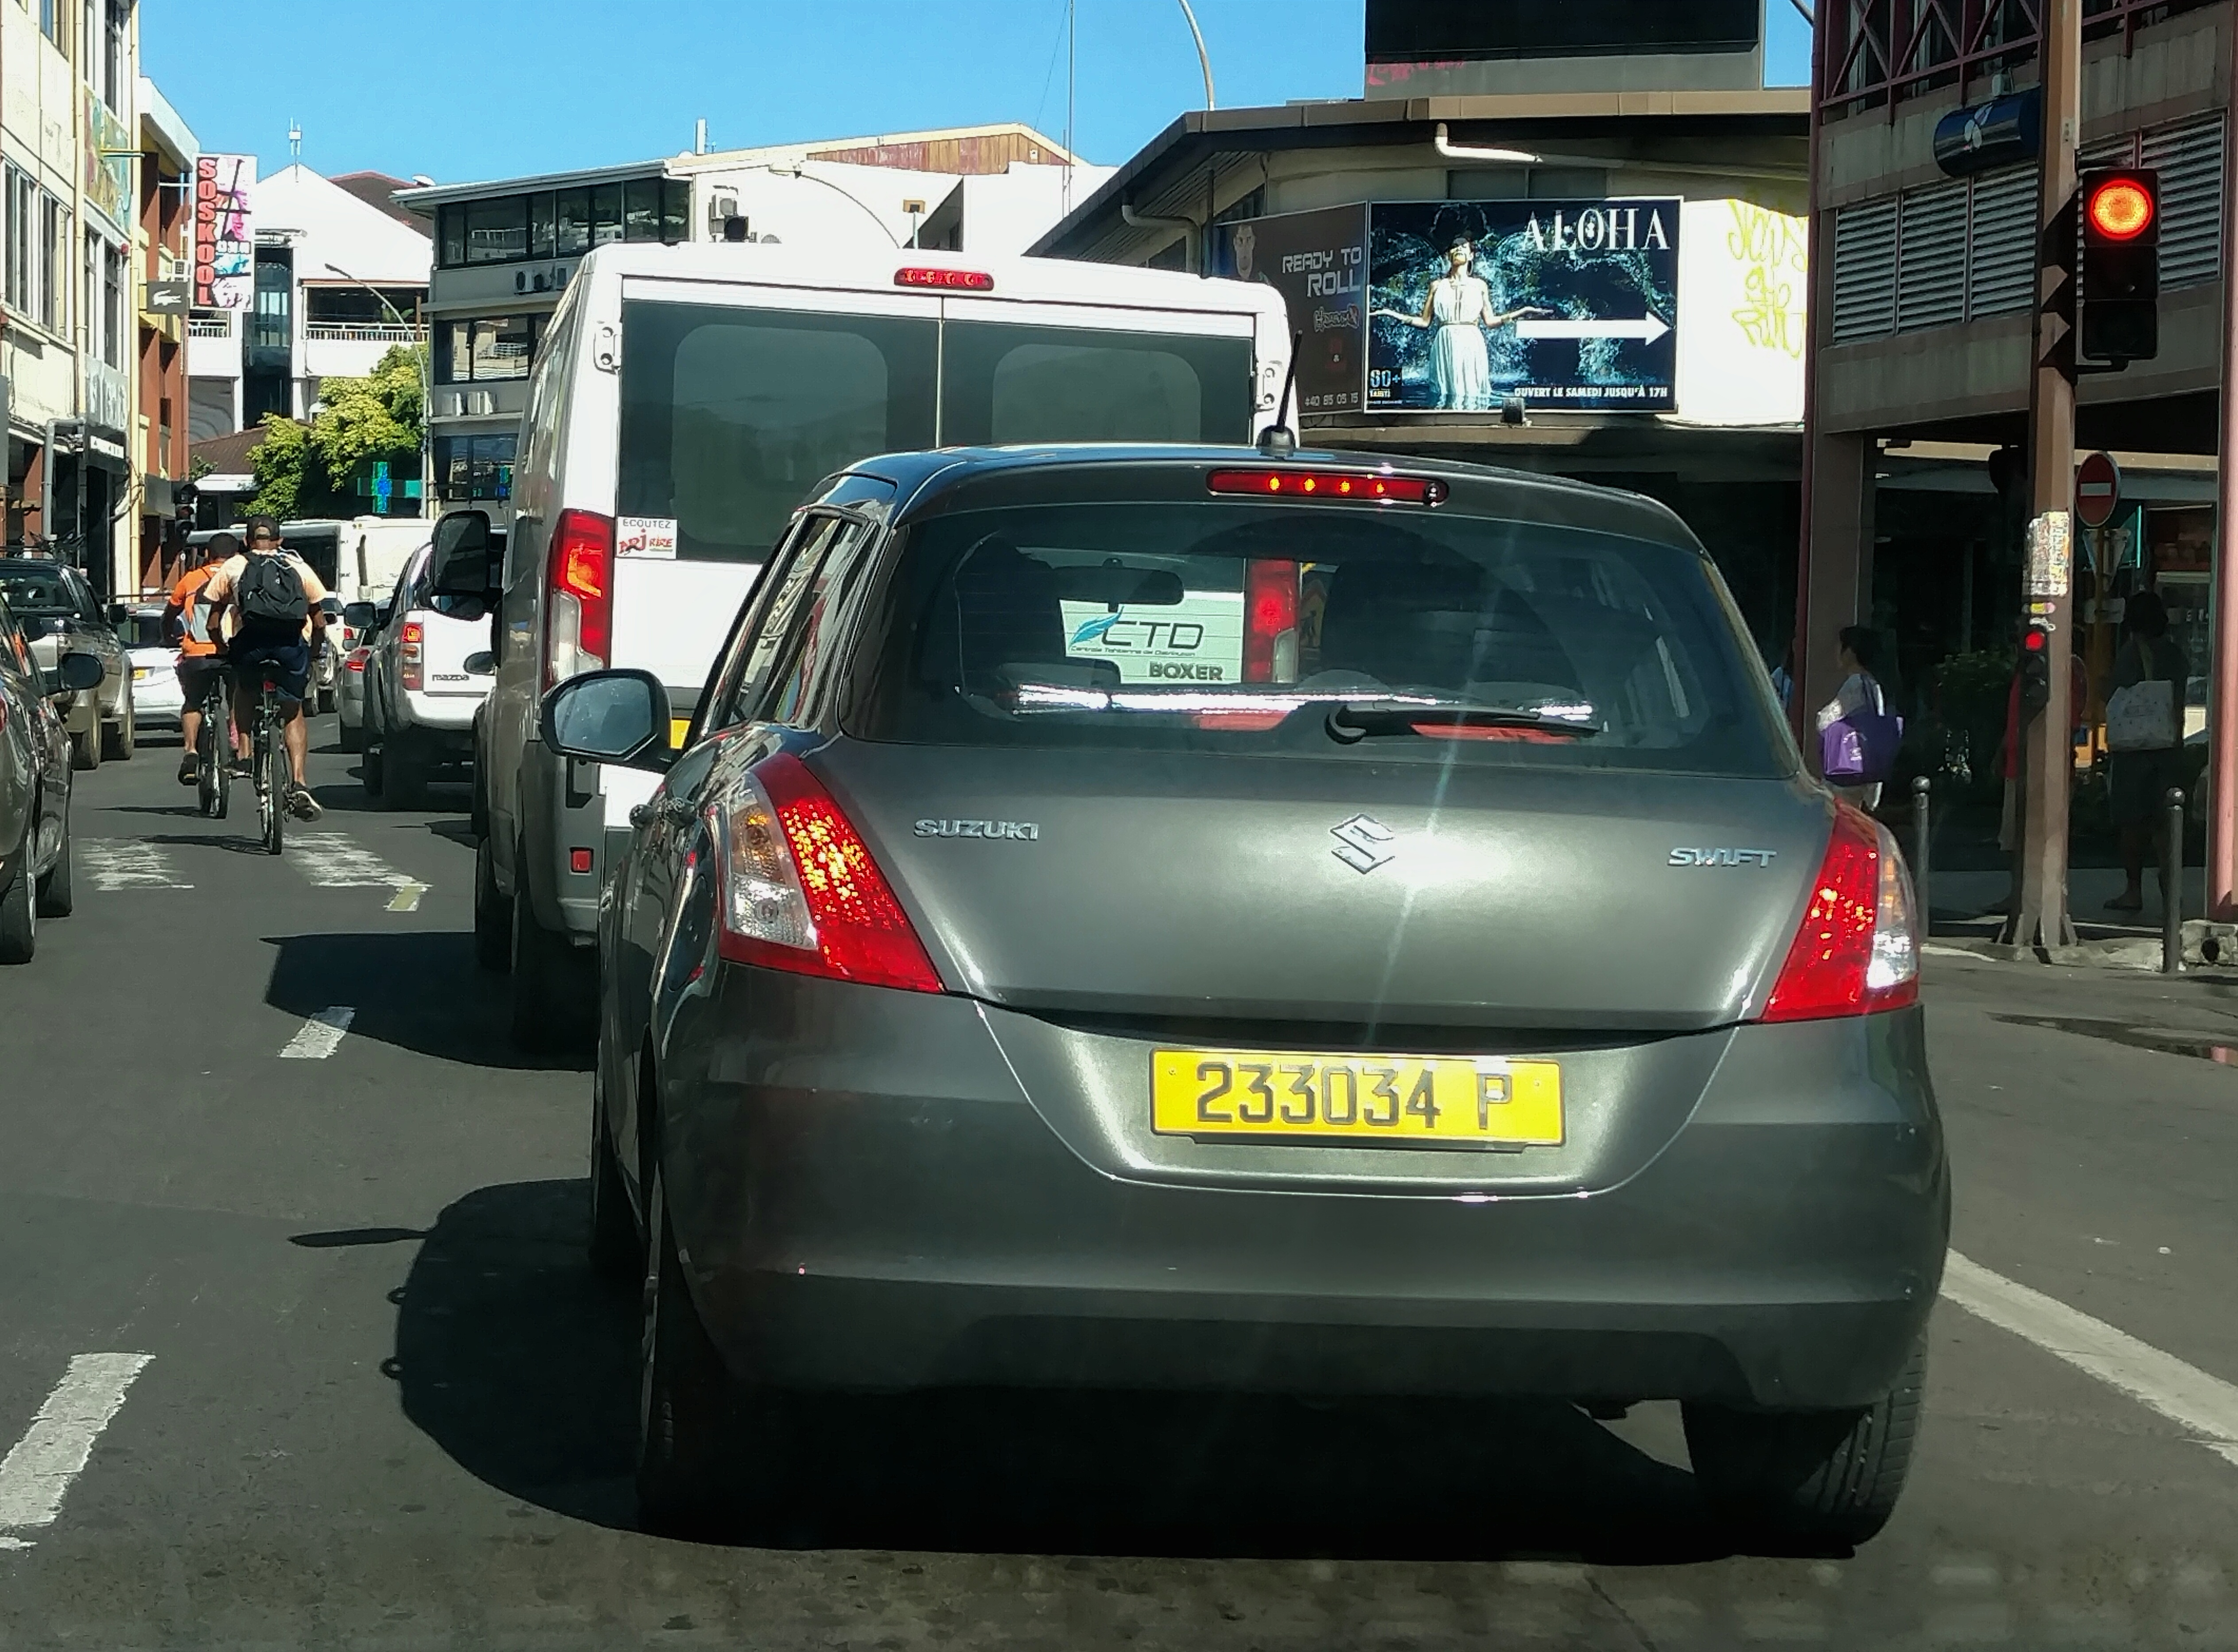license plate: (1144, 1037, 1577, 1151)
